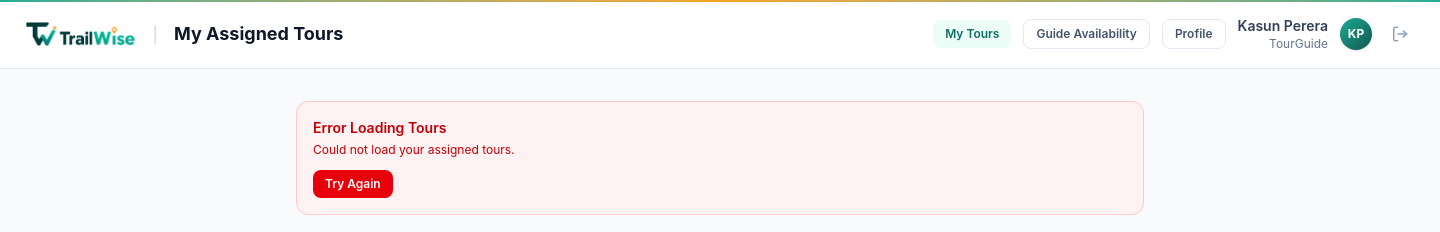
Test: AssignedToursPage › shows an error state with a retry option when the load fails
Expected: the text "Error Loading Tours" is shown, left=313, top=119, right=446, bottom=136
Click the button "Try Again" at (353, 184), box left=313, top=170, right=393, bottom=198
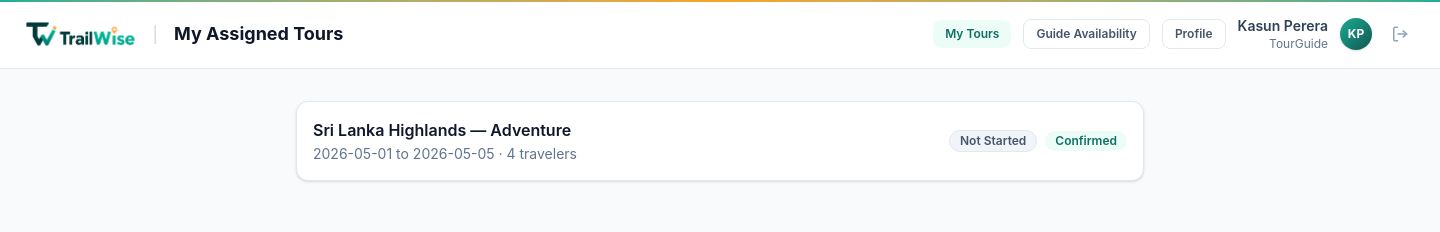
Result: the text "Sri Lanka Highlands — Adventure" is shown at left=313, top=118, right=577, bottom=142
